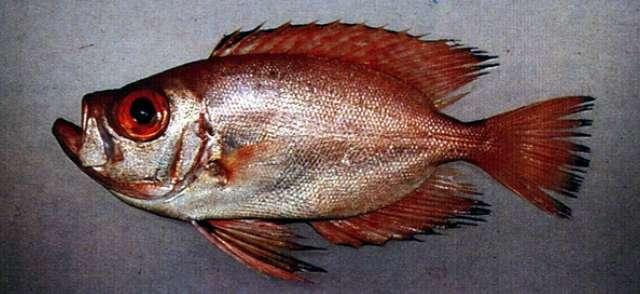Mulut: (50, 78, 100, 168)
Sirip Anal: (312, 162, 490, 248)
Sirip Dada: (210, 131, 304, 196)
Sirip Ekor: (479, 89, 613, 225)
Sirip Perut: (193, 212, 323, 286)
Sirip Punggung: (207, 19, 505, 113)
